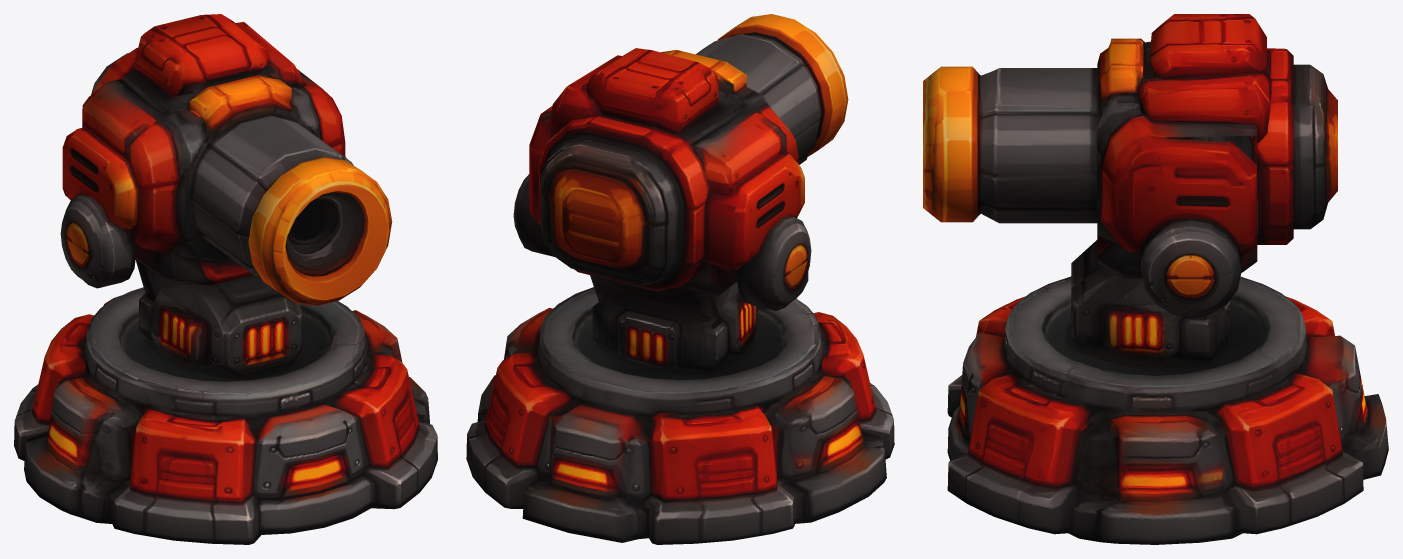
The picture shows the model from 3 angles, left to right: view 1: azimuth 30°, elevation 25°; view 2: azimuth 150°, elevation 25°; view 3: azimuth 270°, elevation 25°; orthographic projection. The views are drawn at different scales.
Parts seen in each view (by area): view 1: TurretHead, TurretBase; view 2: TurretBase, TurretHead; view 3: TurretHead, TurretBase.
Part boxes in pixels (x1,y1,x2,y2): TurretHead: (60,14,392,355); TurretBase: (14,287,437,544); TurretBase: (466,287,894,544); TurretHead: (513,14,848,350); TurretHead: (923,14,1337,341); TurretBase: (947,276,1388,544).
Bounding box in the file's own units: 171 × 176 × 177.
1 material, 1 textured.
